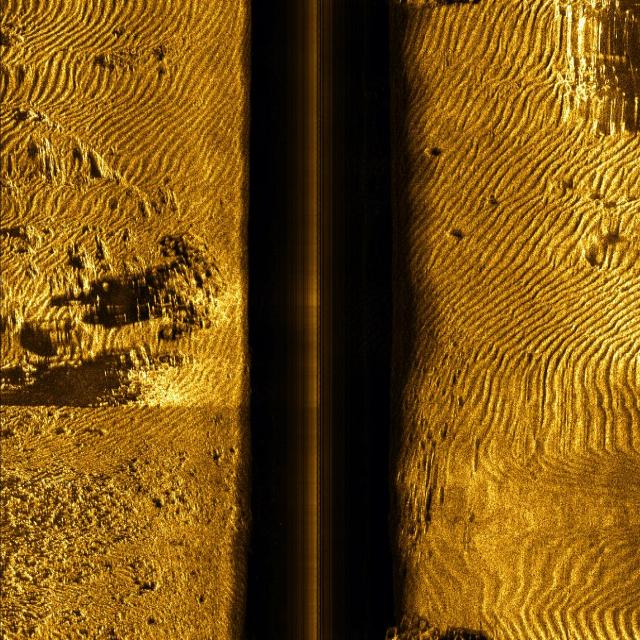artificial reef: (373, 610, 448, 640)
